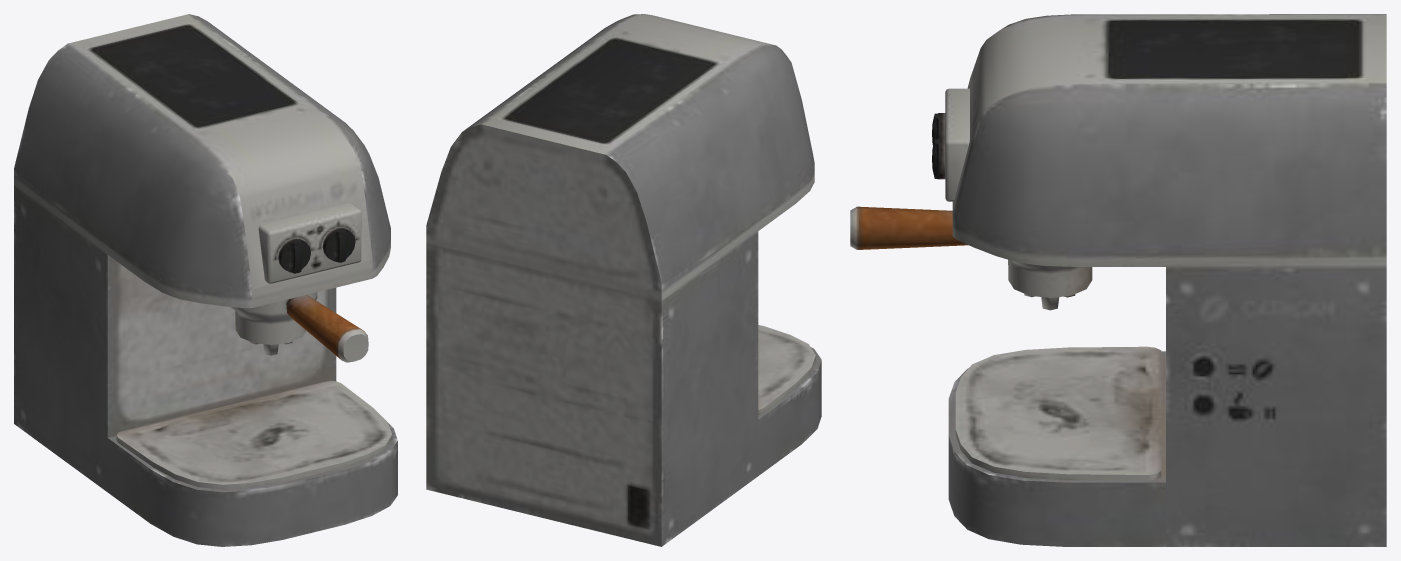
Rendered from coffeemaker.glb.
3 renders of one model, left to right at view 1: azimuth 30°, elevation 25°; view 2: azimuth 150°, elevation 25°; view 3: azimuth 270°, elevation 25°, orthographic. The views are drawn at different scales.
Parts seen in each view (by area): view 1: Coffeemachine_A; view 2: Coffeemachine_A; view 3: Coffeemachine_A.
Part boxes in pixels (<box>): Coffeemachine_A: <box>14,14,397,546</box>; Coffeemachine_A: <box>426,14,821,546</box>; Coffeemachine_A: <box>850,14,1386,546</box>.
Size of the model in its own units: 0.3461 by 0.5319 by 0.5977.
1 material, 1 textured.
